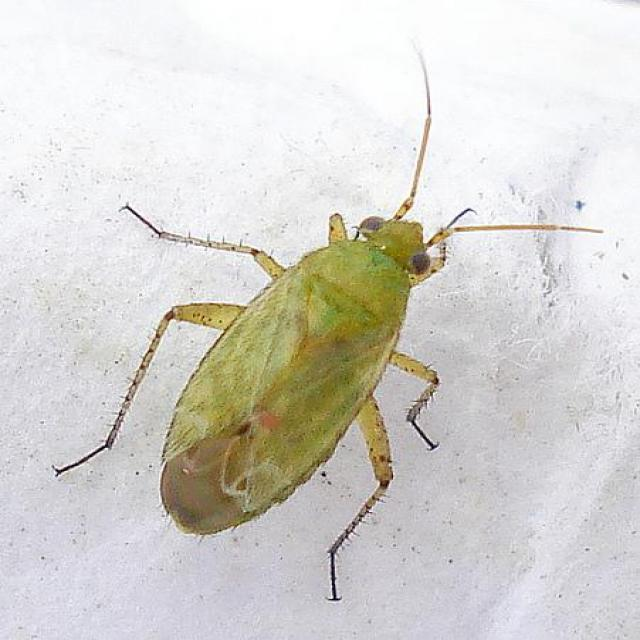Miridae-Adult-: (49, 42, 606, 606)
